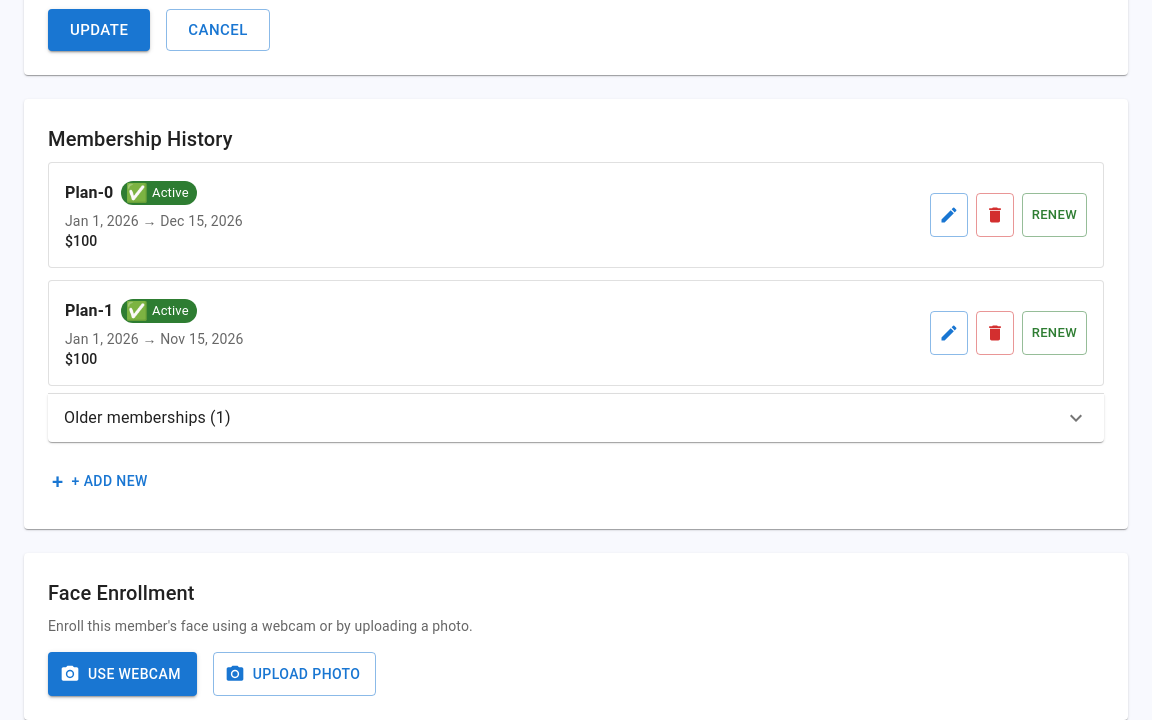
Test case: Membership accordion › keeps the two most recent records visible and places the third in the accordion
(page scrolled)
Expected: the heading "Plan-0" is shown, [65,179,113,207]
Expected: the heading "Plan-1" is shown, [65,297,113,325]
The third record becomes consultable once the accordion is expanded.
Click the button "Older memberships (1)" at x=147, y=418, box [64,406,1088,430]
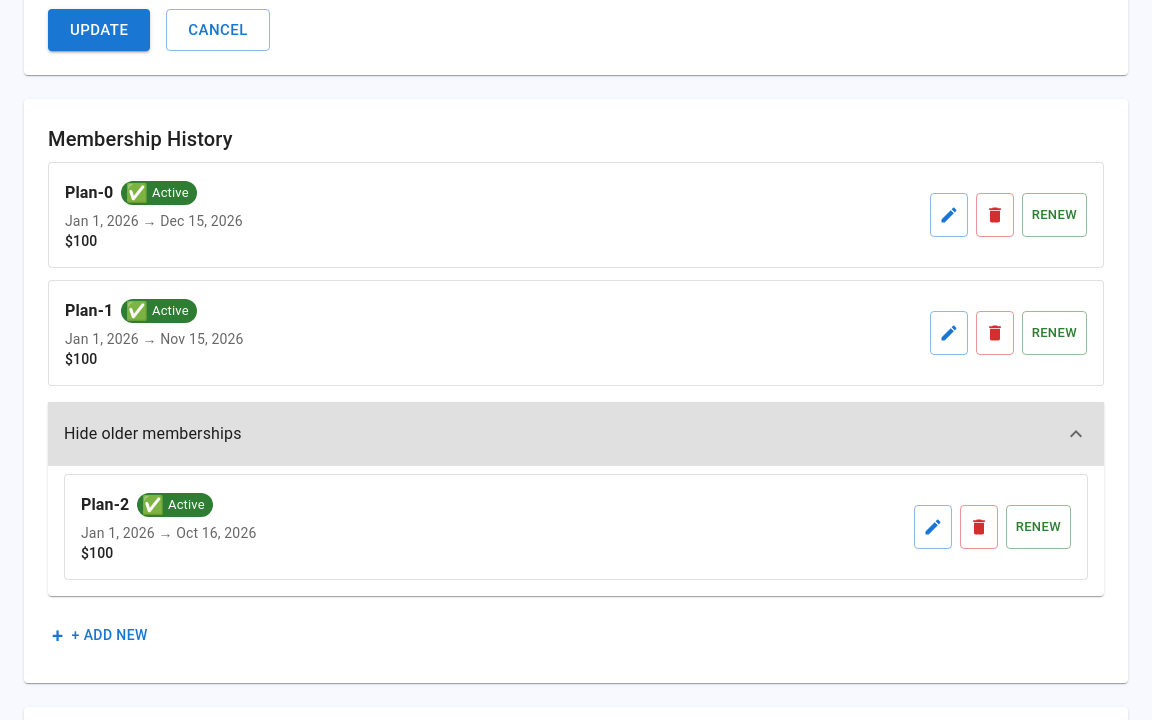
Result: the heading "Plan-2" is shown at [81,491,129,519]
